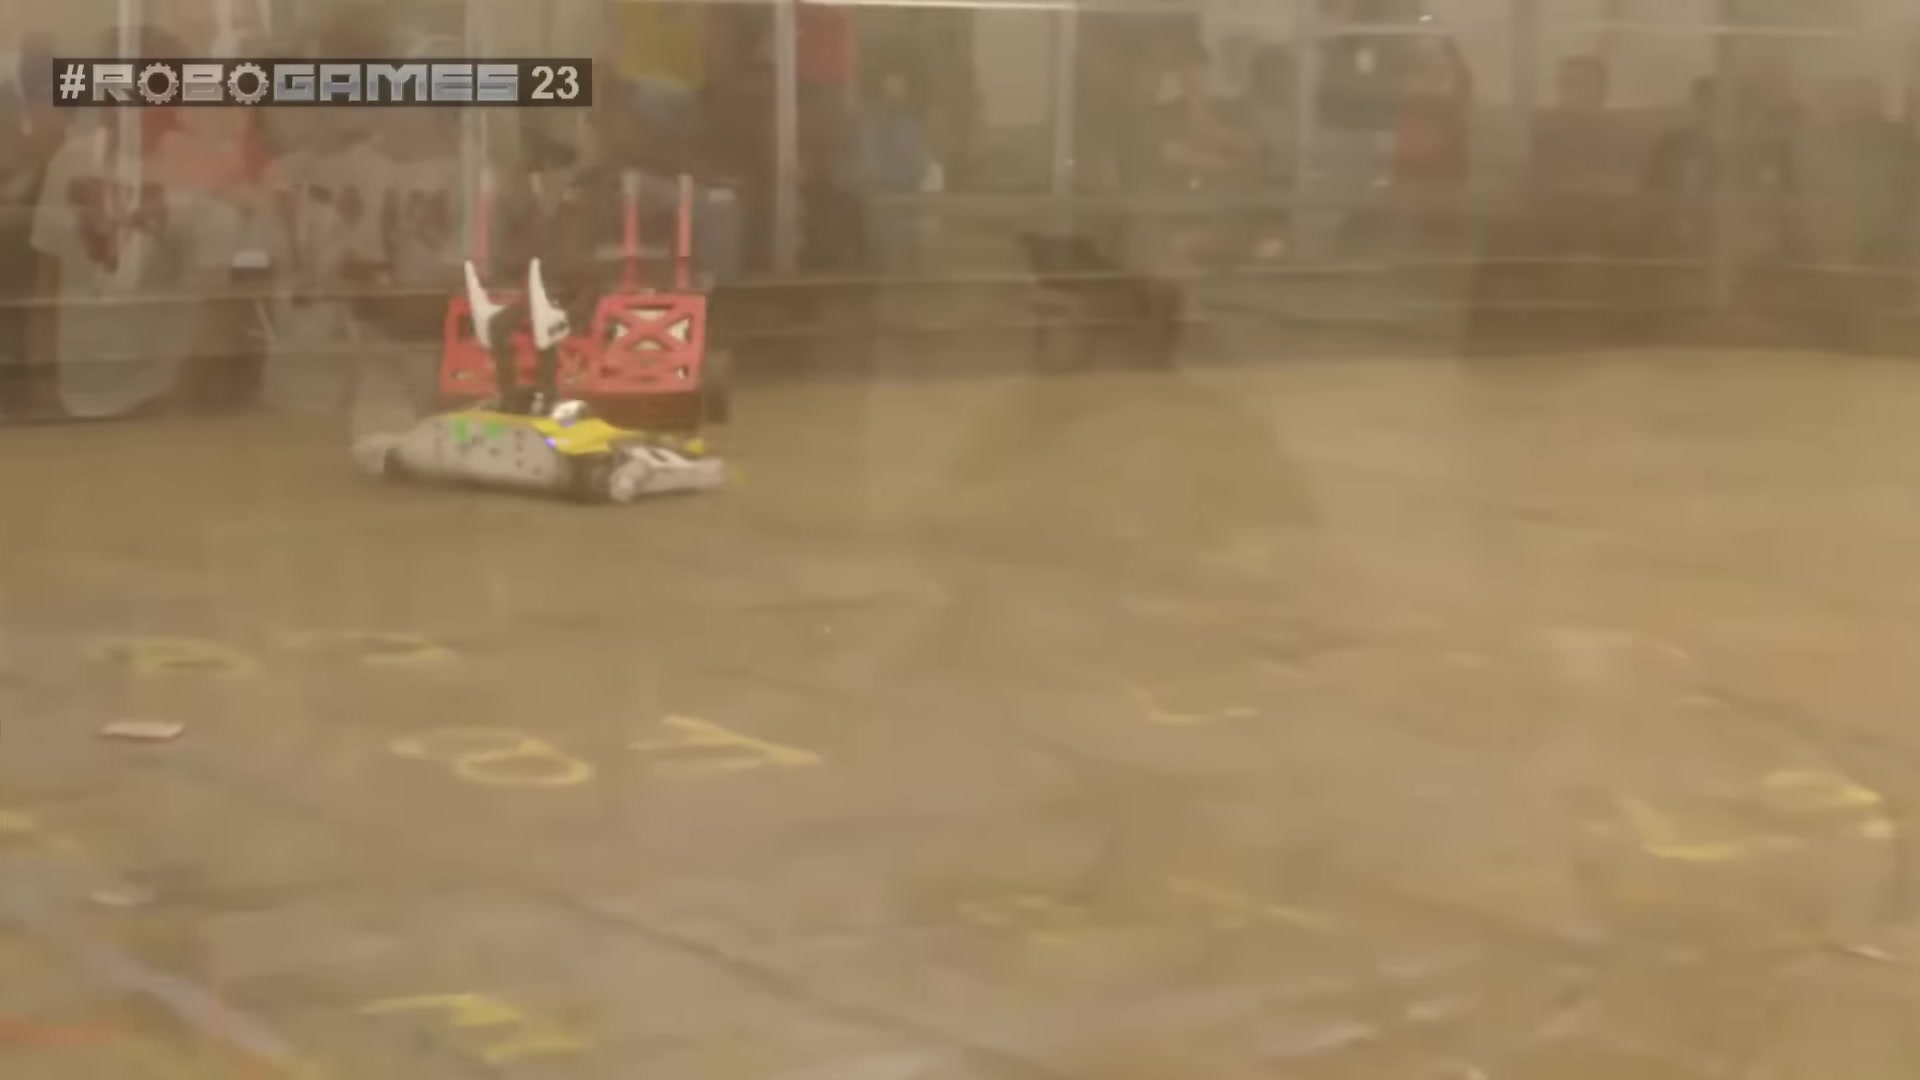combatbot: (452, 169, 728, 397), (359, 393, 727, 501)
